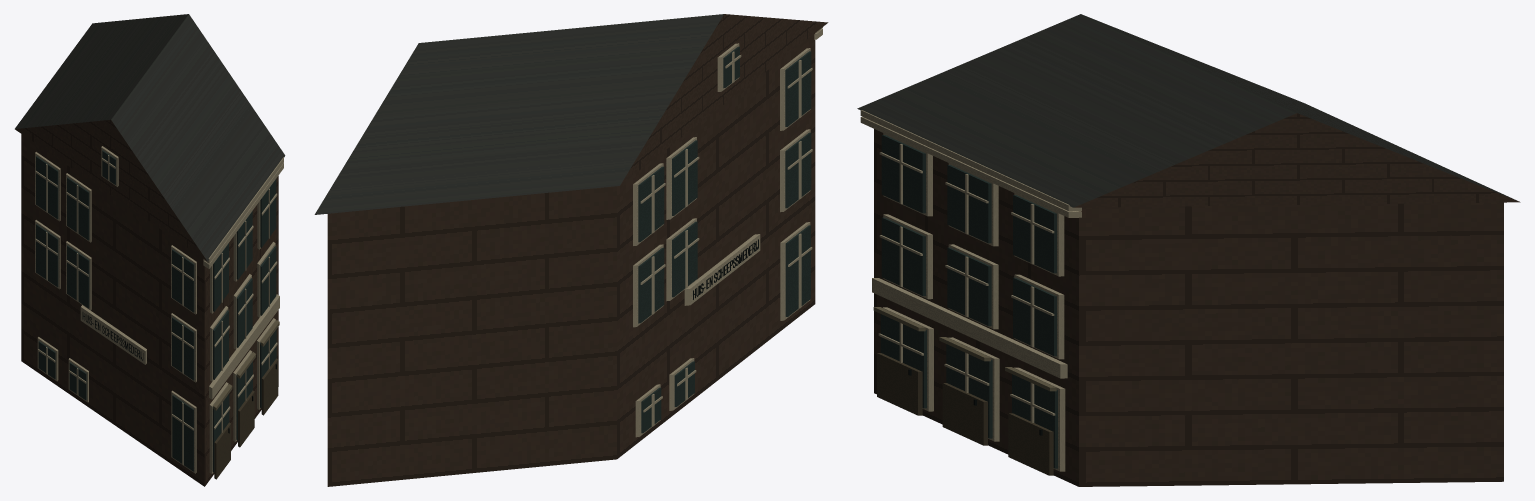
3 renders of one model, left to right at view 1: azimuth 30°, elevation 25°; view 2: azimuth 150°, elevation 25°; view 3: azimuth 270°, elevation 25°, orthographic. The views are drawn at different scales.
Parts seen in each view (by area): view 1: smederij-jufferstraat-0, smederij-jufferstraat-1, smederij-jufferstraat-3, smederij-jufferstraat-2, smederij-jufferstraat-4, smederij-jufferstraat-5, smederij-jufferstraat-6; view 2: smederij-jufferstraat-0, smederij-jufferstraat-1, smederij-jufferstraat-3, smederij-jufferstraat-2, smederij-jufferstraat-6; view 3: smederij-jufferstraat-0, smederij-jufferstraat-1, smederij-jufferstraat-3, smederij-jufferstraat-2, smederij-jufferstraat-4, smederij-jufferstraat-5.
Part boxes in pixels (x1,y1,x2,y2): smederij-jufferstraat-0: [15, 119, 278, 486]; smederij-jufferstraat-1: [15, 14, 285, 260]; smederij-jufferstraat-3: [36, 150, 276, 472]; smederij-jufferstraat-2: [35, 146, 283, 473]; smederij-jufferstraat-4: [214, 358, 278, 479]; smederij-jufferstraat-5: [213, 320, 279, 410]; smederij-jufferstraat-6: [82, 312, 276, 433]; smederij-jufferstraat-0: [327, 14, 828, 486]; smederij-jufferstraat-1: [314, 14, 723, 214]; smederij-jufferstraat-3: [638, 46, 811, 433]; smederij-jufferstraat-2: [633, 27, 822, 437]; smederij-jufferstraat-6: [693, 239, 758, 299]; smederij-jufferstraat-0: [874, 113, 1520, 486]; smederij-jufferstraat-1: [857, 14, 1519, 207]; smederij-jufferstraat-3: [880, 135, 1057, 468]; smederij-jufferstraat-2: [860, 110, 1081, 471]; smederij-jufferstraat-4: [877, 353, 1053, 475]; smederij-jufferstraat-5: [873, 307, 1056, 391].
Bounding box in the file's own units: 7.36 × 12.2 × 19.63.
7 materials, 7 textured.
